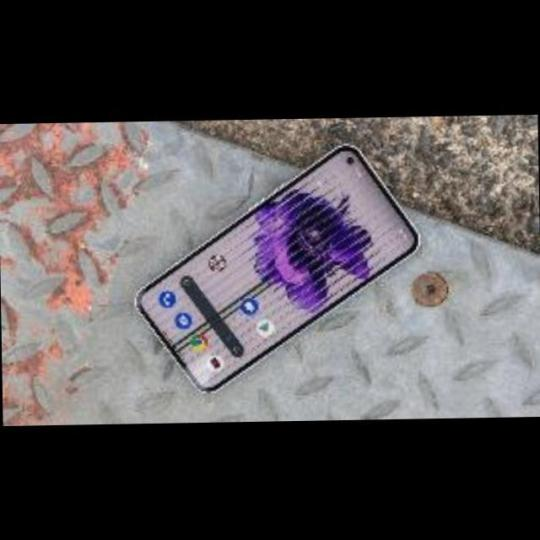phone: (137, 140, 422, 400)
